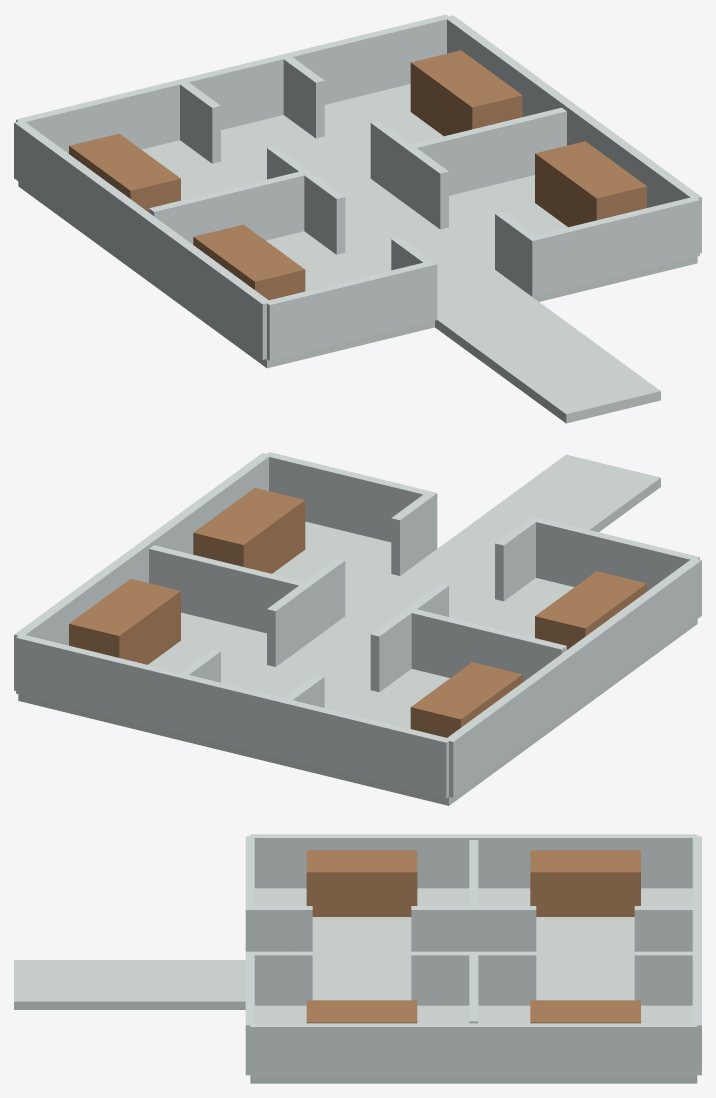
The model's file is arts-studio-cutaway.glb.
3 renders of one model, top to bottom at view 1: azimuth 30°, elevation 25°; view 2: azimuth 150°, elevation 25°; view 3: azimuth 270°, elevation 25°, orthographic. The views are drawn at different scales.
Visible parts, largest first — view 1: arts-studio/floor/cutaway.002, arts-studio/rear-wall/cutaway.002, arts-studio/outer--1/cutaway.002, arts-studio/portal-floor-0/cutaway.002, arts-studio/entry-jamb-1/cutaway.002, arts-studio/entry-jamb--1/cutaway.002, arts-studio/outer-1/cutaway.002, arts-studio/room-divider-1/cutaway.002, arts-studio/desk-3/cutaway.002, arts-studio/desk-1/cutaway.002, arts-studio/room-divider--1/cutaway.002, arts-studio/desk-0/cutaway.002 (+9 smaller); view 2: arts-studio/floor/cutaway.002, arts-studio/rear-wall/cutaway.002, arts-studio/outer--1/cutaway.002, arts-studio/portal-floor-0/cutaway.002, arts-studio/entry-jamb-1/cutaway.002, arts-studio/outer-1/cutaway.002, arts-studio/room-divider-1/cutaway.002, arts-studio/desk-1/cutaway.002, arts-studio/desk-3/cutaway.002, arts-studio/entry-jamb--1/cutaway.002, arts-studio/room-divider--1/cutaway.002, arts-studio/desk-2/cutaway.002 (+9 smaller); view 3: arts-studio/floor/cutaway.002, arts-studio/outer-1/cutaway.002, arts-studio/outer--1/cutaway.002, arts-studio/portal-floor-0/cutaway.002, arts-studio/desk-0/cutaway.002, arts-studio/desk-2/cutaway.002, arts-studio/corridor-1--1-b/cutaway.002, arts-studio/corridor-1-1-a/cutaway.002, arts-studio/corridor-1-1-b/cutaway.002, arts-studio/corridor-1--1-a/cutaway.002, arts-studio/corridor--1--1-b/cutaway.002, arts-studio/corridor--1-1-a/cutaway.002 (+9 smaller).
Part boxes in pixels (box(x1,y1,x2,y2)): arts-studio/floor/cutaway.002: box(18, 84, 697, 368); arts-studio/rear-wall/cutaway.002: box(16, 14, 450, 153); arts-studio/outer--1/cutaway.002: box(14, 120, 268, 359); arts-studio/portal-floor-0/cutaway.002: box(435, 295, 660, 423); arts-studio/entry-jamb-1/cutaway.002: box(529, 196, 699, 296); arts-studio/entry-jamb--1/cutaway.002: box(265, 262, 437, 360); arts-studio/outer-1/cutaway.002: box(445, 15, 701, 253); arts-studio/room-divider-1/cutaway.002: box(412, 107, 566, 195); arts-studio/desk-3/cutaway.002: box(410, 50, 522, 136); arts-studio/desk-1/cutaway.002: box(535, 141, 646, 227); arts-studio/room-divider--1/cutaway.002: box(149, 172, 304, 244); arts-studio/desk-0/cutaway.002: box(193, 224, 305, 300); arts-studio/floor/cutaway.002: box(18, 521, 697, 805); arts-studio/rear-wall/cutaway.002: box(16, 634, 450, 798); arts-studio/outer--1/cutaway.002: box(445, 559, 701, 797); arts-studio/portal-floor-0/cutaway.002: box(435, 454, 660, 565); arts-studio/entry-jamb-1/cutaway.002: box(265, 452, 437, 551); arts-studio/outer-1/cutaway.002: box(14, 453, 269, 690); arts-studio/room-divider-1/cutaway.002: box(149, 545, 303, 633); arts-studio/desk-1/cutaway.002: box(193, 488, 305, 573); arts-studio/desk-3/cutaway.002: box(69, 578, 180, 664); arts-studio/entry-jamb--1/cutaway.002: box(530, 516, 699, 591); arts-studio/room-divider--1/cutaway.002: box(411, 609, 566, 682); arts-studio/desk-2/cutaway.002: box(410, 662, 522, 737); arts-studio/floor/cutaway.002: box(250, 888, 697, 1083); arts-studio/outer-1/cutaway.002: box(250, 1023, 697, 1077); arts-studio/outer--1/cutaway.002: box(250, 834, 697, 888); arts-studio/portal-floor-0/cutaway.002: box(14, 960, 245, 1009); arts-studio/desk-0/cutaway.002: box(306, 850, 417, 916); arts-studio/desk-2/cutaway.002: box(530, 850, 640, 916); arts-studio/corridor-1--1-b/cutaway.002: box(473, 951, 536, 1005); arts-studio/corridor-1-1-a/cutaway.002: box(411, 951, 473, 1005); arts-studio/corridor-1-1-b/cutaway.002: box(250, 951, 312, 1005); arts-studio/corridor-1--1-a/cutaway.002: box(634, 951, 697, 1005); arts-studio/corridor--1--1-b/cutaway.002: box(473, 906, 536, 951); arts-studio/corridor--1-1-a/cutaway.002: box(411, 906, 473, 951).
Bounding box in the file's own units: 7.42 × 1.05 × 11.18.
